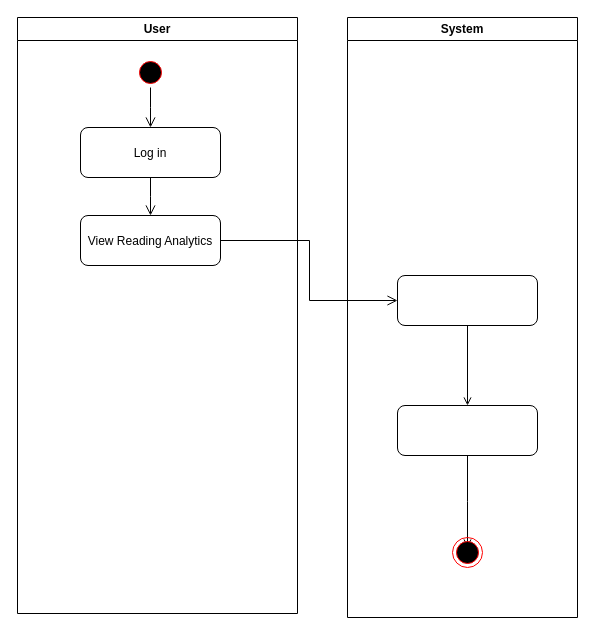
Image size: 595x635. Some labels were removed from this diagram. The shapes that lost their labels are listed below. From the top down, each one's centre as x and y in pixels, then its label:
At (x=467, y=300): "Check borrow history".
At (x=467, y=430): "Displays on screen".
